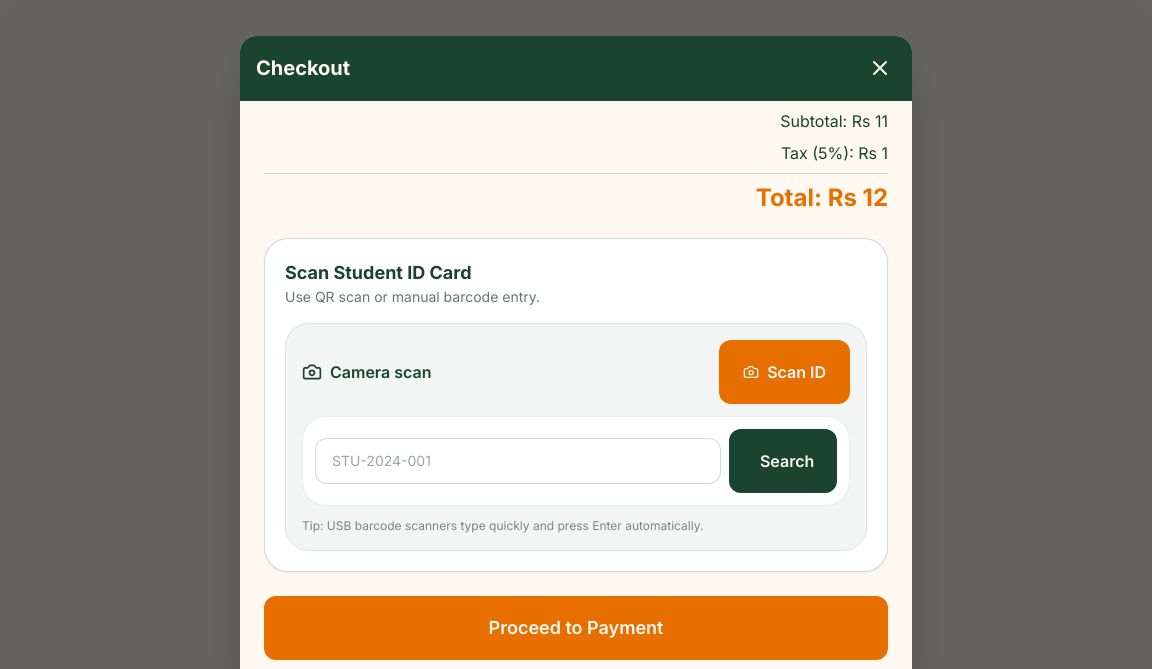
CheckoutModal › highlights selected payment method when clicked
(page scrolled)
Click the button "Proceed to Payment" at (576, 628), box [264, 596, 888, 660]
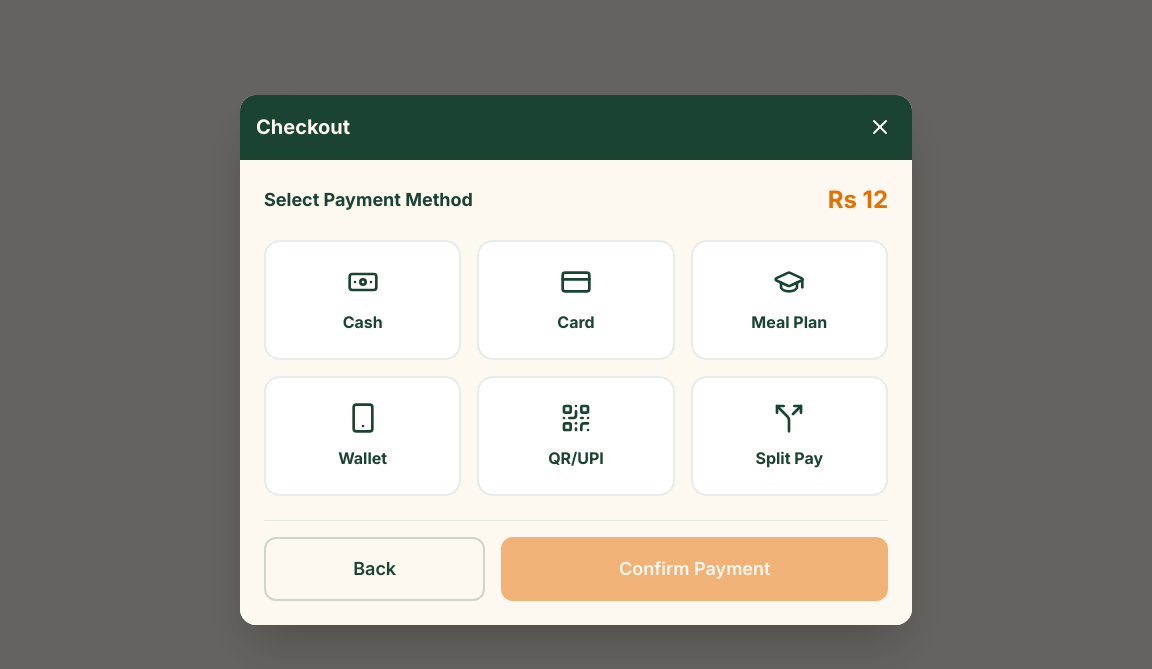
Click the button "Cash" at (363, 300), box [264, 240, 461, 360]
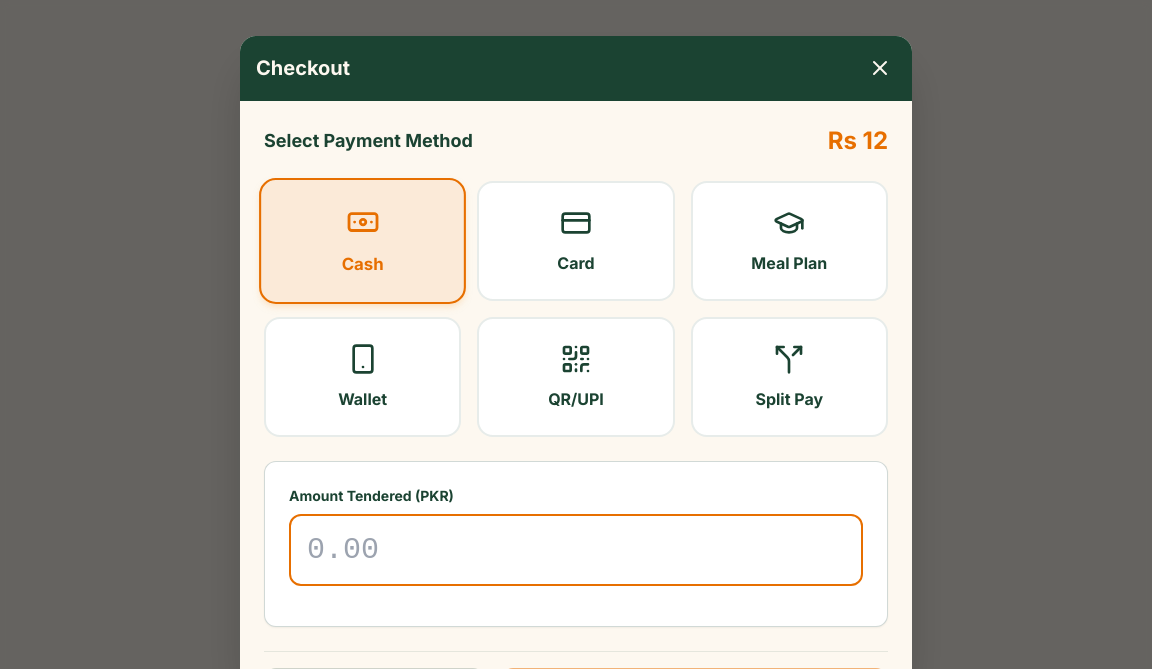
Expected: the number field with placeholder "0.00" is shown, [289, 514, 863, 586]
